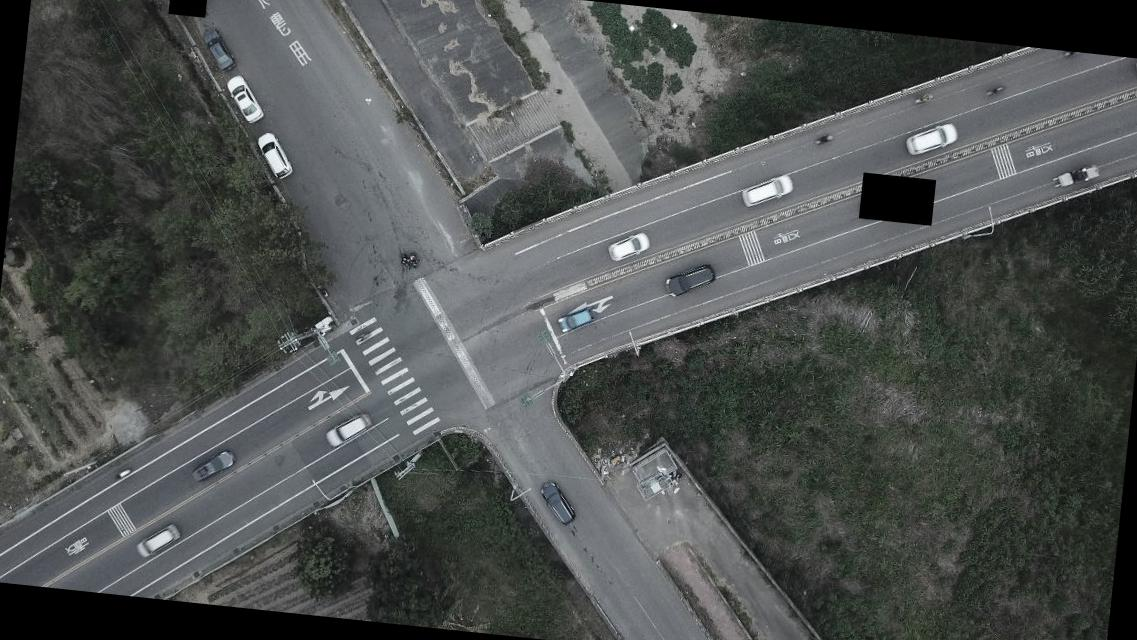vehicle: (736, 169, 795, 213), (221, 73, 266, 125), (252, 130, 297, 180), (902, 120, 958, 160), (662, 261, 716, 301), (135, 520, 182, 562), (326, 408, 372, 450), (536, 482, 578, 527), (189, 446, 236, 486), (198, 27, 238, 71), (604, 229, 650, 264), (555, 300, 596, 336)
